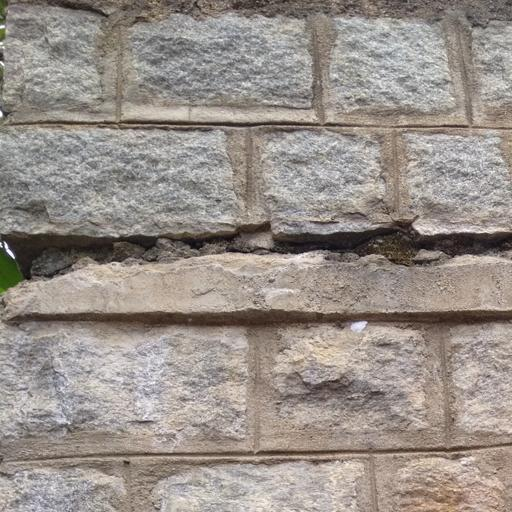spalling: (0, 204, 510, 324)
